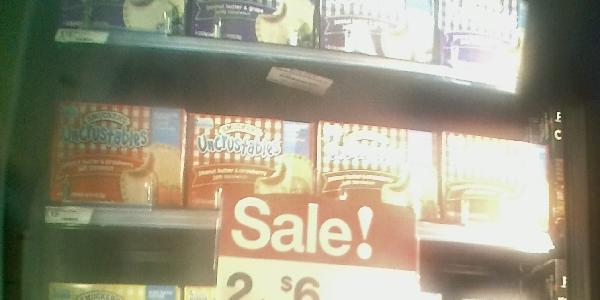icecream: (44, 86, 191, 215), (319, 113, 445, 239), (190, 111, 321, 221), (440, 130, 563, 246)
